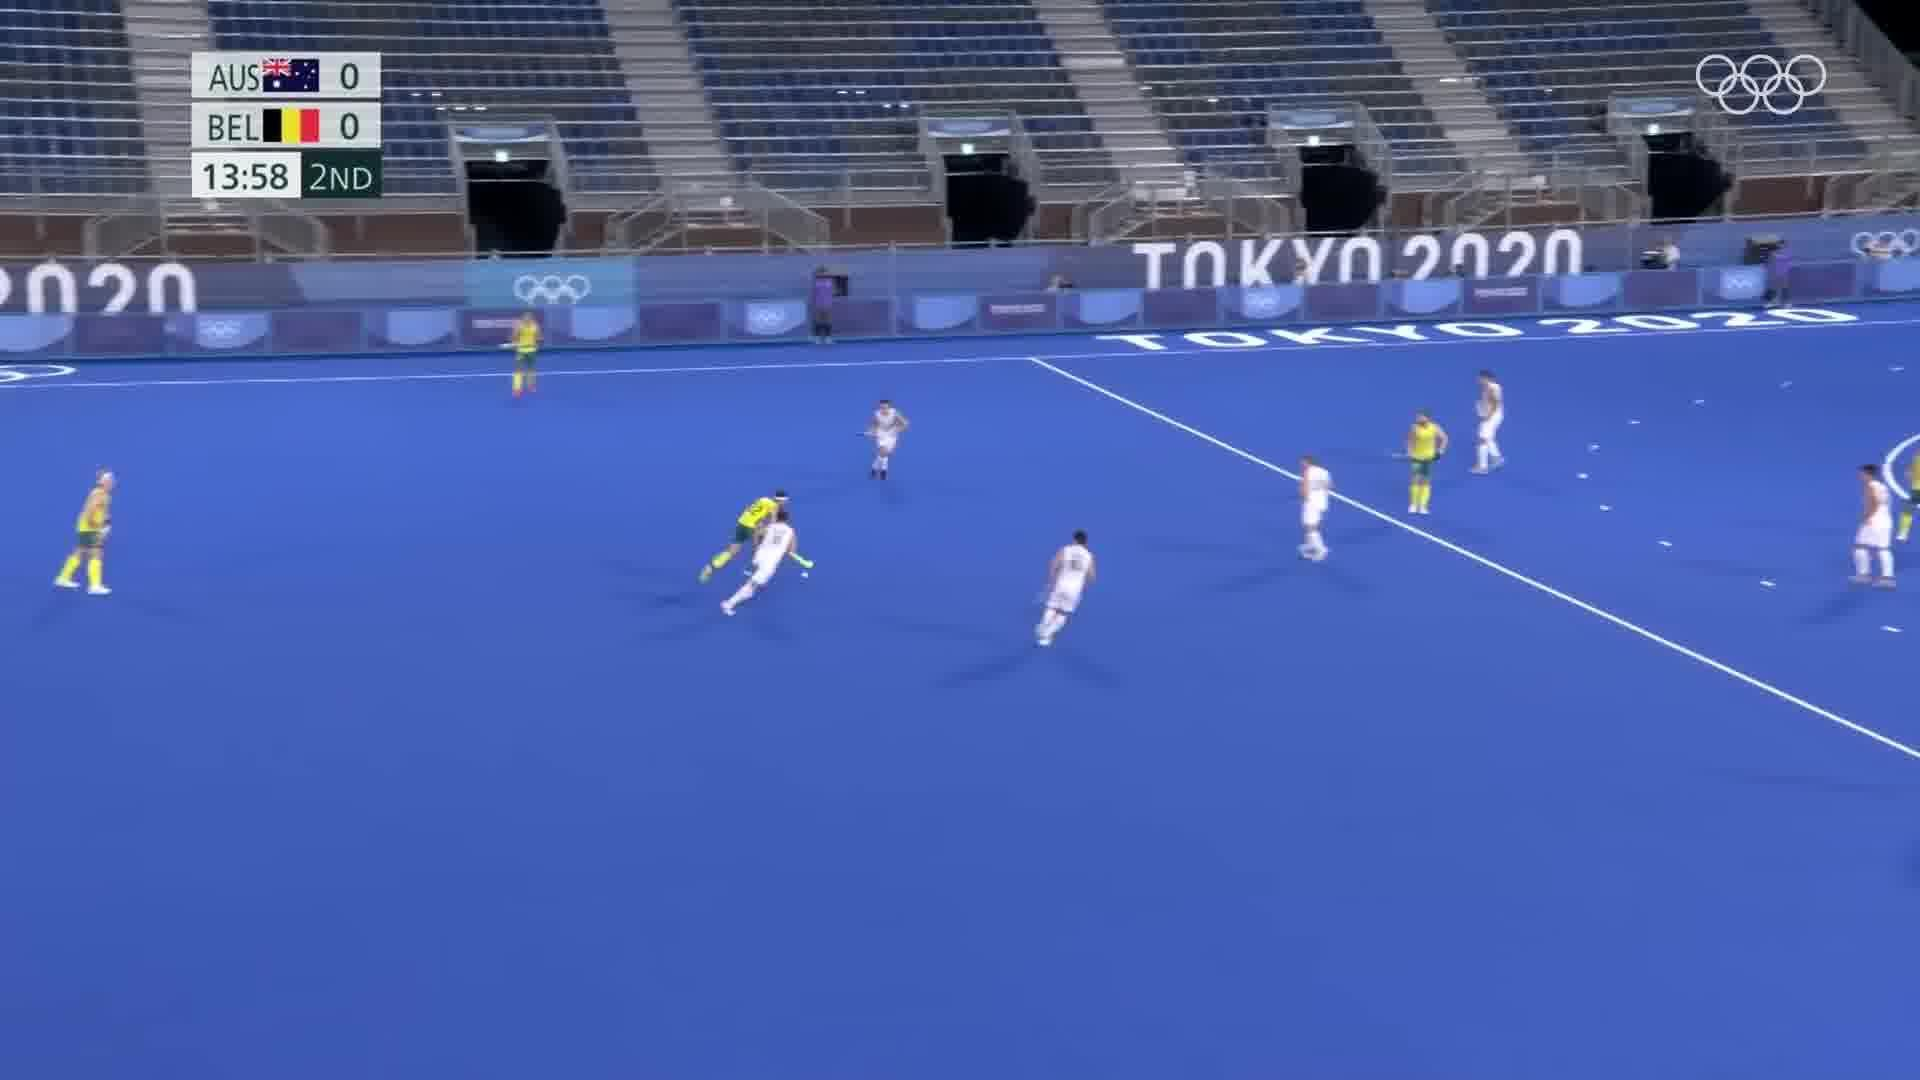ball: (791, 567, 812, 585)
